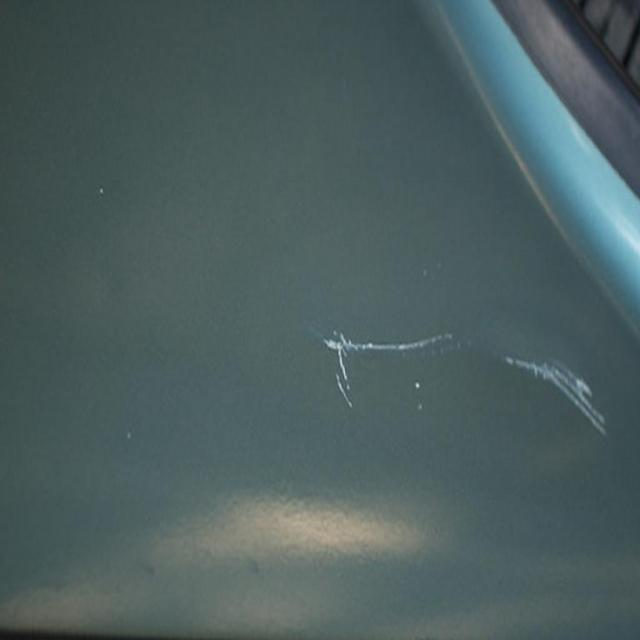scratch: (300, 313, 619, 466)
